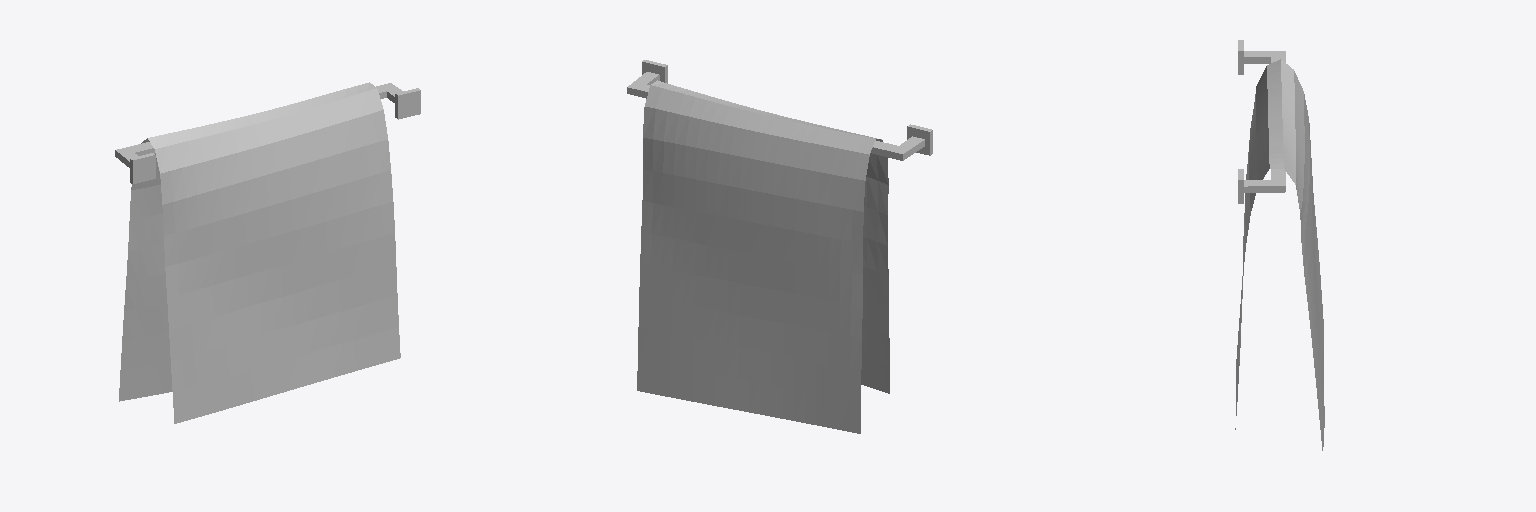
File: Toalha_pendurada.obj
The picture shows the model from 3 angles: view 1: azimuth 30°, elevation 25°; view 2: azimuth 150°, elevation 25°; view 3: azimuth 270°, elevation 25°; orthographic projection.
Parts seen in each view (by area): view 1: Toalha1; view 2: Toalha1; view 3: Toalha1.
Boxes of the visible parts, x1=… form: Toalha1: x1=115, y1=82, x2=420, y2=423; Toalha1: x1=627, y1=60, x2=932, y2=433; Toalha1: x1=1235, y1=40, x2=1324, y2=450.
Size of the model in its own units: 1.3 by 1.26 by 0.3482.